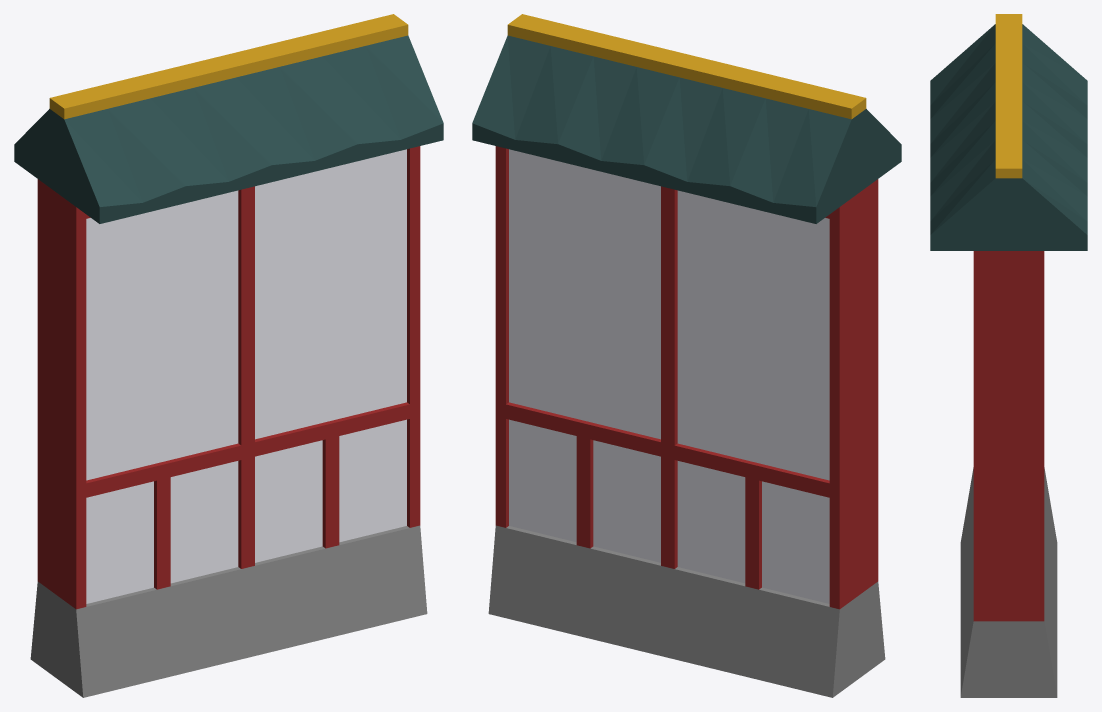
Rendered from Asian_Prop_Building_Fence_Wall_Framed_Small_04.FBX.
3 renders of one model, left to right at view 1: azimuth 30°, elevation 25°; view 2: azimuth 150°, elevation 25°; view 3: azimuth 270°, elevation 25°, orthographic. The views are drawn at different scales.
Parts seen in each view (by area): view 1: Asian_Prop_Building_Fence_Wall_Framed_Small_04; view 2: Asian_Prop_Building_Fence_Wall_Framed_Small_04; view 3: Asian_Prop_Building_Fence_Wall_Framed_Small_04.
Part boxes in pixels (left/top/right/bottom): Asian_Prop_Building_Fence_Wall_Framed_Small_04: left=14, top=14, right=443, bottom=697; Asian_Prop_Building_Fence_Wall_Framed_Small_04: left=472, top=14, right=901, bottom=697; Asian_Prop_Building_Fence_Wall_Framed_Small_04: left=930, top=14, right=1087, bottom=697.
Size of the model in its own units: 2584 by 4128 by 1112.
